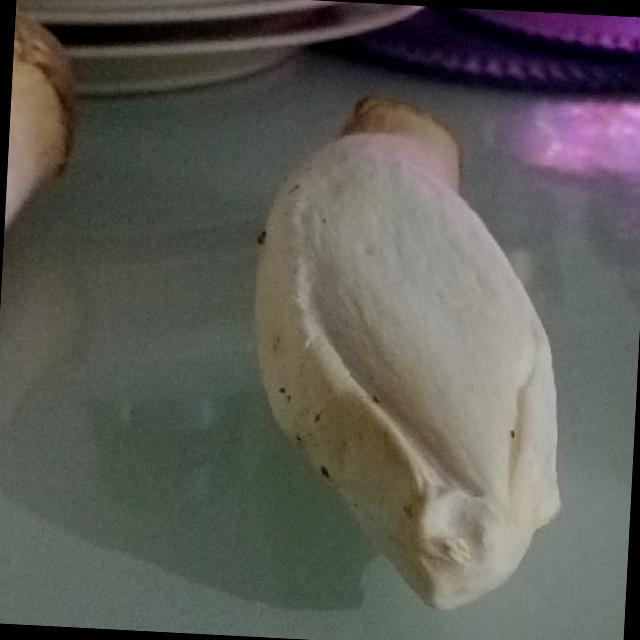Pleurotus eryngii: (236, 89, 584, 611)
